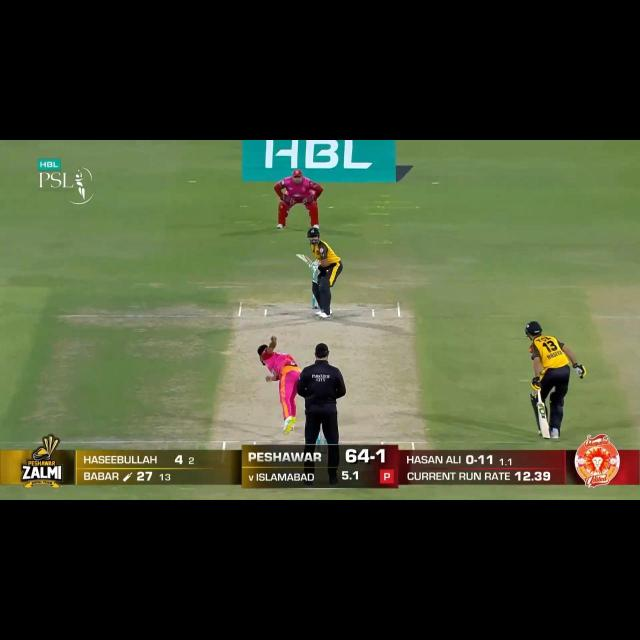bat: (536, 402, 554, 443), (293, 249, 310, 266)
toe: (538, 426, 552, 442), (295, 253, 304, 261)
